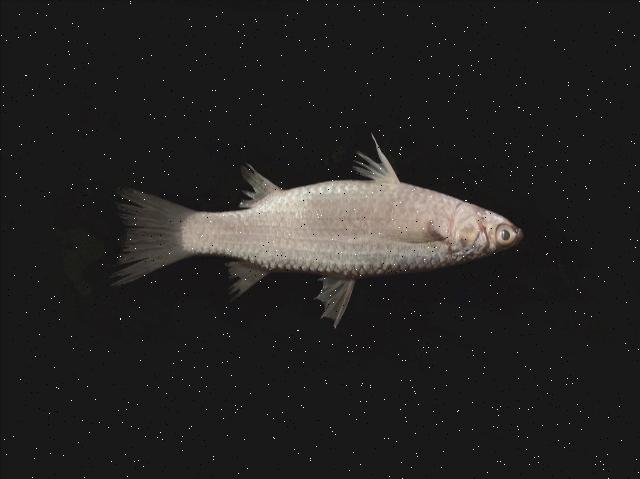Mulut: (505, 217, 527, 247)
Sirip Anal: (227, 159, 286, 221)
Sirip Dada: (378, 214, 446, 251)
Sirip Ekor: (98, 178, 188, 292)
Sirip Perut: (346, 132, 402, 194)
Sirip Punggung: (224, 252, 360, 336)
